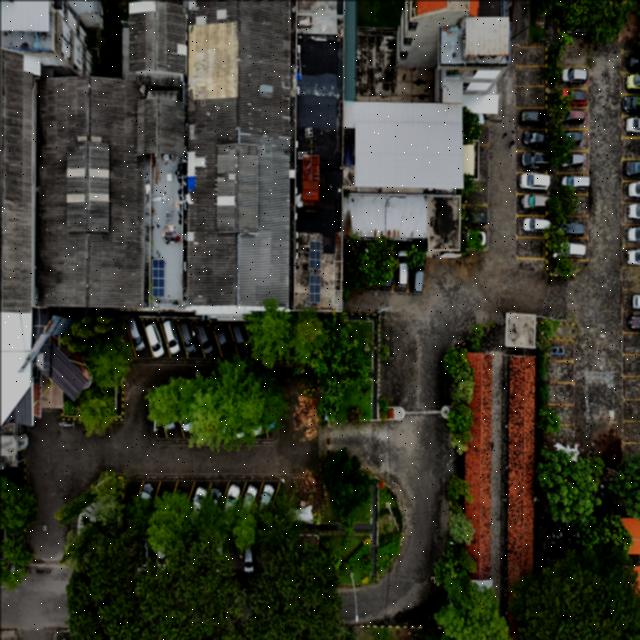Tree: (0, 478, 37, 536), (446, 511, 476, 546), (447, 474, 472, 504), (408, 244, 424, 270)
